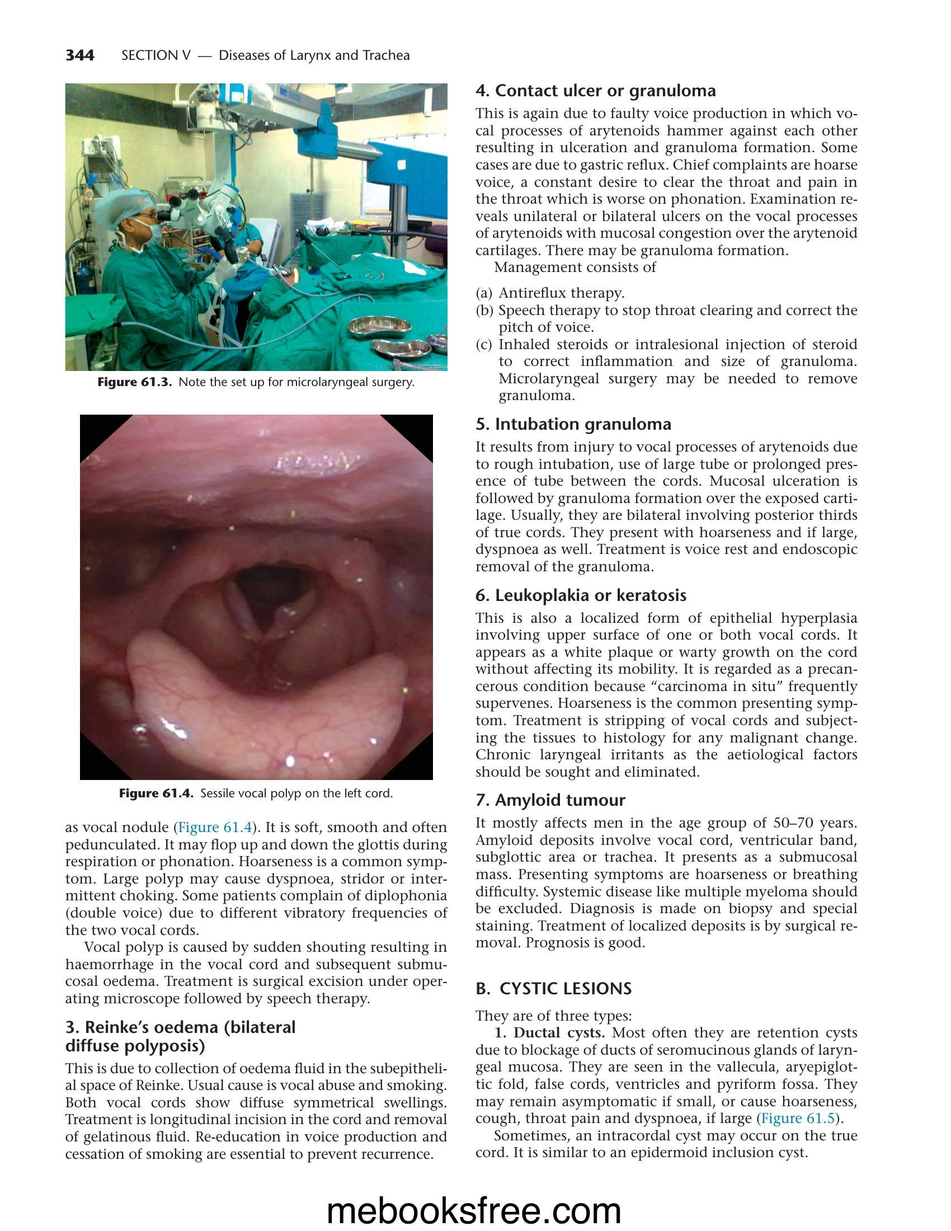caption: (97, 375, 414, 390), (118, 787, 394, 802)
header: (120, 48, 410, 65)
image: (79, 414, 433, 781), (65, 82, 448, 371)
list: (475, 285, 859, 405)
sub-section-heading: (64, 1018, 297, 1057), (474, 82, 718, 102), (474, 586, 688, 607), (475, 415, 671, 435), (476, 791, 627, 811), (475, 979, 633, 996)
text: (64, 819, 449, 1010), (474, 610, 859, 782), (474, 106, 859, 276), (474, 1008, 860, 1162), (474, 439, 859, 577), (475, 816, 858, 953), (64, 1060, 449, 1164)
